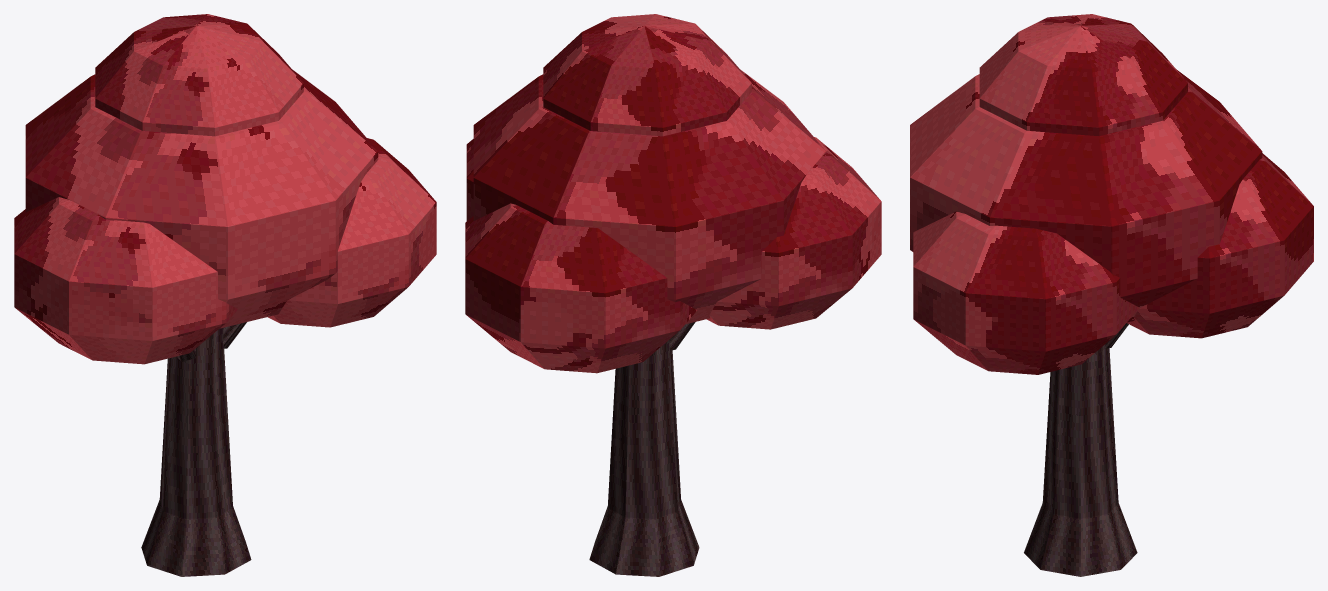
The model's file is arvore_de_floresta_de_sangue.glb.
The picture shows the model from 3 angles, left to right: view 1: azimuth 30°, elevation 25°; view 2: azimuth 150°, elevation 25°; view 3: azimuth 270°, elevation 25°; orthographic projection.
Parts seen in each view (by area): view 1: arvore_de_floresta_de_sangue; view 2: arvore_de_floresta_de_sangue; view 3: arvore_de_floresta_de_sangue.
Boxes of the visible parts, box(x1,y1,x2,y2) form: arvore_de_floresta_de_sangue: box(14, 14, 436, 576); arvore_de_floresta_de_sangue: box(465, 14, 881, 576); arvore_de_floresta_de_sangue: box(910, 14, 1313, 576).
Size of the model in its own units: 3.47 by 4.49 by 3.12.
1 material, 1 textured.
